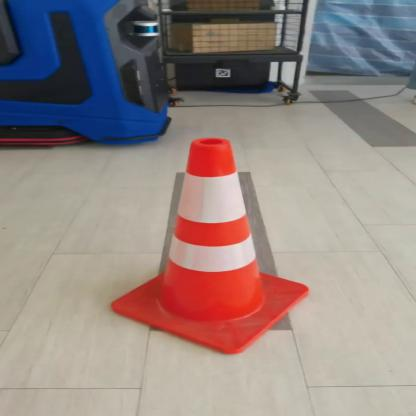cone: (104, 134, 312, 358)
